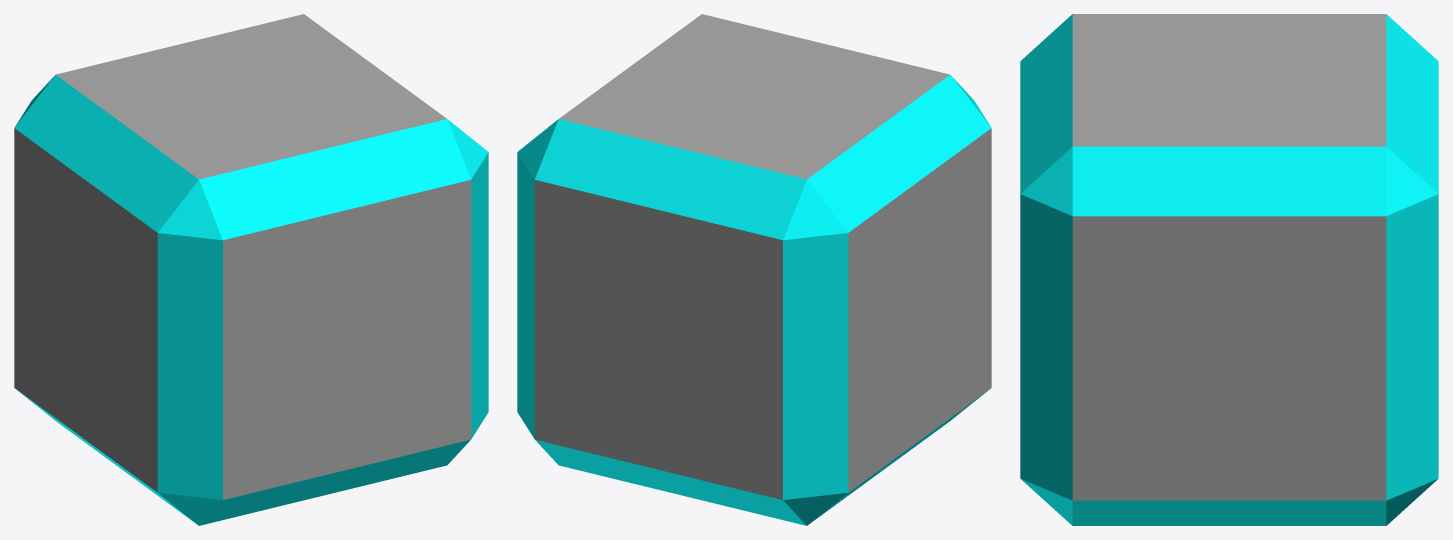
The picture shows the model from 3 angles, left to right: view 1: azimuth 30°, elevation 25°; view 2: azimuth 150°, elevation 25°; view 3: azimuth 270°, elevation 25°; orthographic projection. The views are drawn at different scales.
Parts seen in each view (by area): view 1: box_01; view 2: box_01; view 3: box_01.
Part boxes in pixels (<box>): box_01: <box>14,14,488,525</box>; box_01: <box>517,14,991,525</box>; box_01: <box>1020,14,1438,525</box>.
Size of the model in its own units: 200 by 200 by 200.
